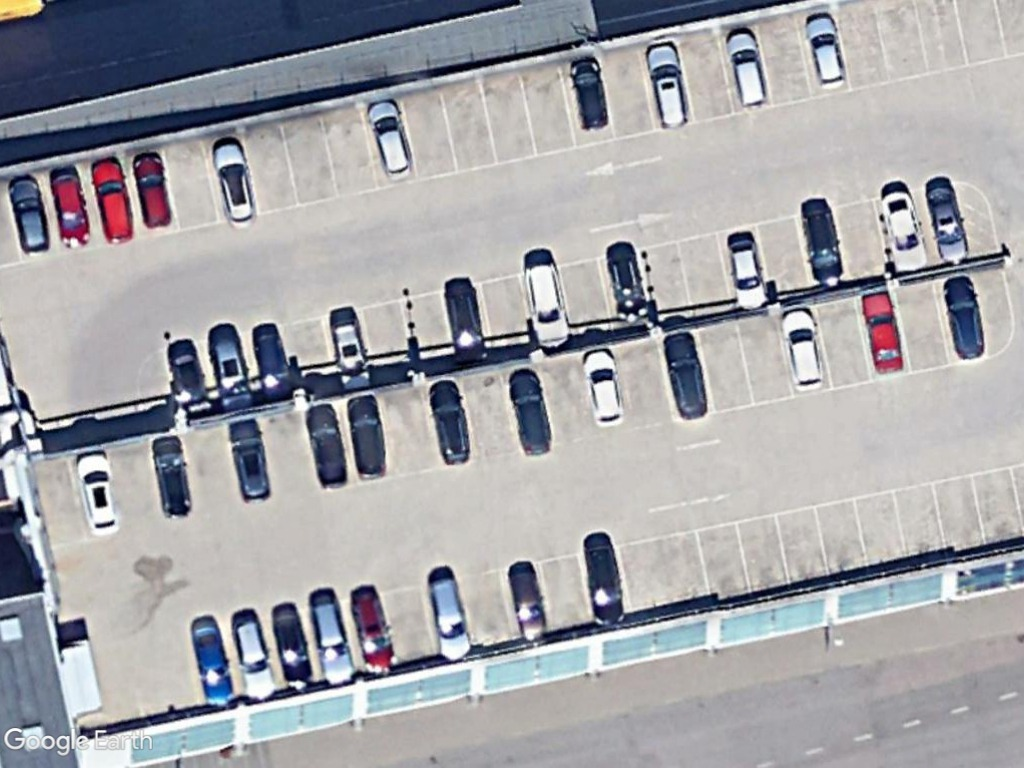car: (642, 35, 697, 134), (209, 134, 263, 233), (658, 328, 712, 425), (345, 586, 401, 679), (306, 590, 358, 689), (519, 256, 572, 353), (879, 184, 933, 279), (87, 153, 140, 249), (923, 173, 975, 270), (777, 305, 831, 398), (503, 368, 557, 461), (222, 414, 276, 507), (424, 573, 476, 669), (579, 535, 632, 629), (797, 199, 850, 292), (268, 603, 319, 699), (719, 25, 774, 114), (936, 269, 988, 362), (302, 398, 354, 491), (147, 431, 199, 524), (365, 96, 418, 187), (856, 285, 909, 376), (798, 10, 854, 96), (441, 277, 491, 372), (187, 616, 236, 712), (127, 150, 179, 239), (5, 170, 57, 259), (74, 447, 123, 540), (603, 243, 655, 329), (230, 611, 278, 704), (425, 382, 476, 468), (47, 166, 96, 253), (580, 345, 629, 432), (344, 394, 391, 484), (721, 232, 771, 316), (565, 54, 613, 137), (504, 563, 552, 646), (328, 312, 372, 394)
